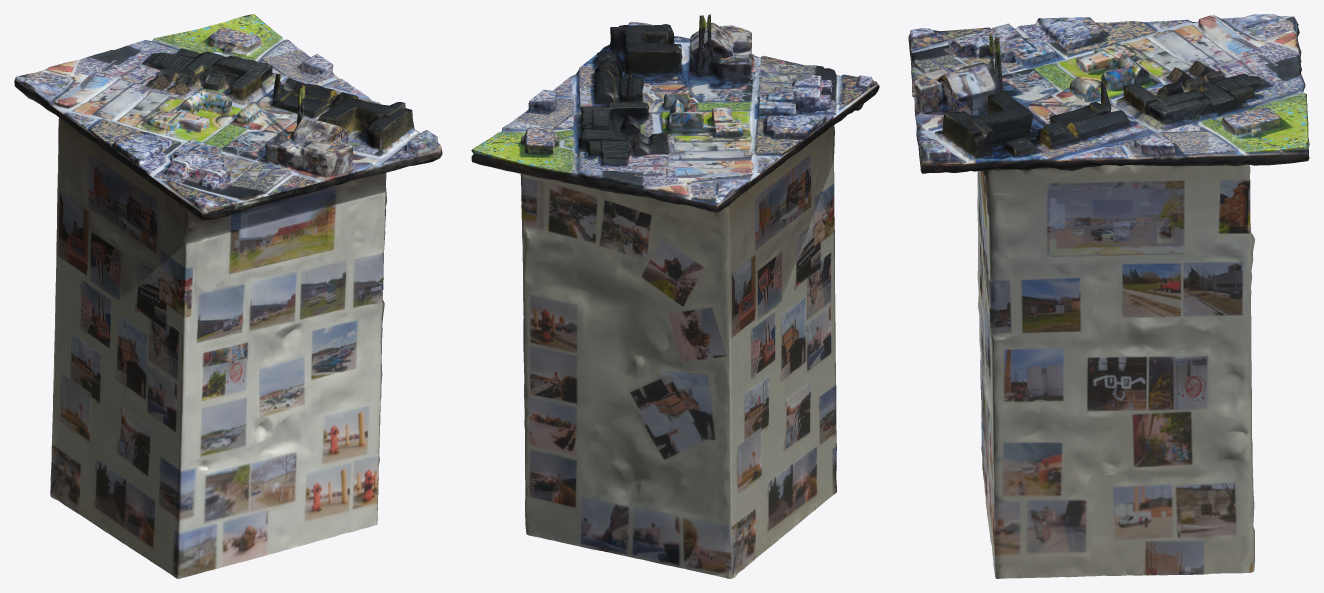
Rendered from barn.glb.
3 views of the same model, side by side, from view 1: azimuth 30°, elevation 25°; view 2: azimuth 150°, elevation 25°; view 3: azimuth 270°, elevation 25° (orthographic). The views are drawn at different scales.
Parts seen in each view (by area): view 1: Texture Map; view 2: Texture Map; view 3: Texture Map.
Boxes of the visible parts, x1=… form: Texture Map: x1=14, y1=14, x2=442, y2=578; Texture Map: x1=471, y1=14, x2=879, y2=578; Texture Map: x1=908, y1=14, x2=1309, y2=578.
Bounding box in the file's own units: 2.53 × 4.27 × 3.09.
Materials: 1 (1 with a texture image).
